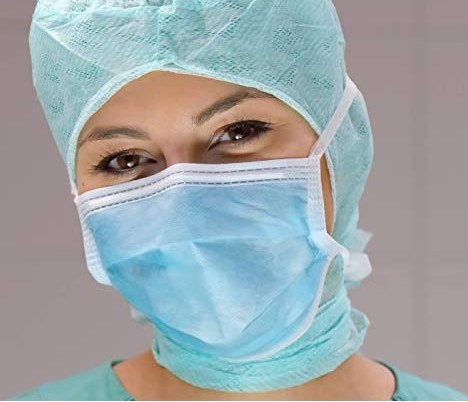face_with_mask: (28, 4, 370, 357)
